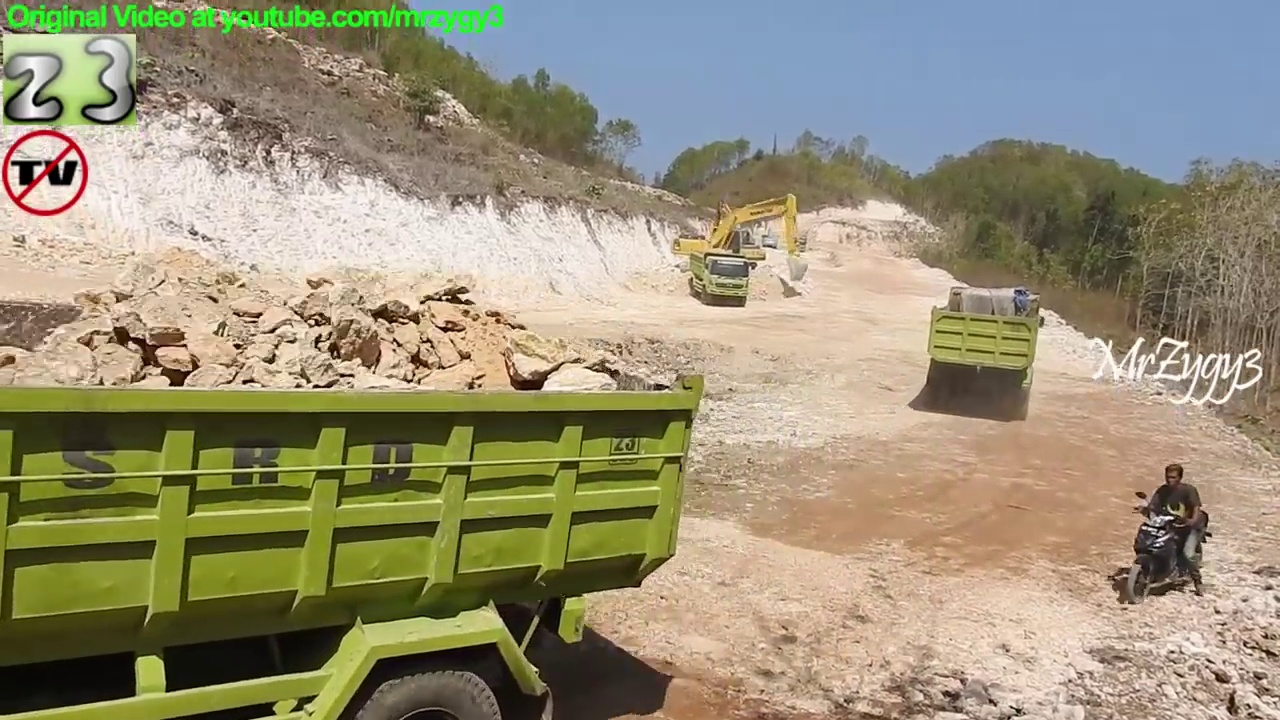excavator: (674, 190, 812, 286), (700, 199, 774, 278), (760, 221, 781, 251)
truck: (1, 276, 710, 720), (923, 281, 1050, 407), (685, 247, 757, 313), (789, 231, 812, 254)
